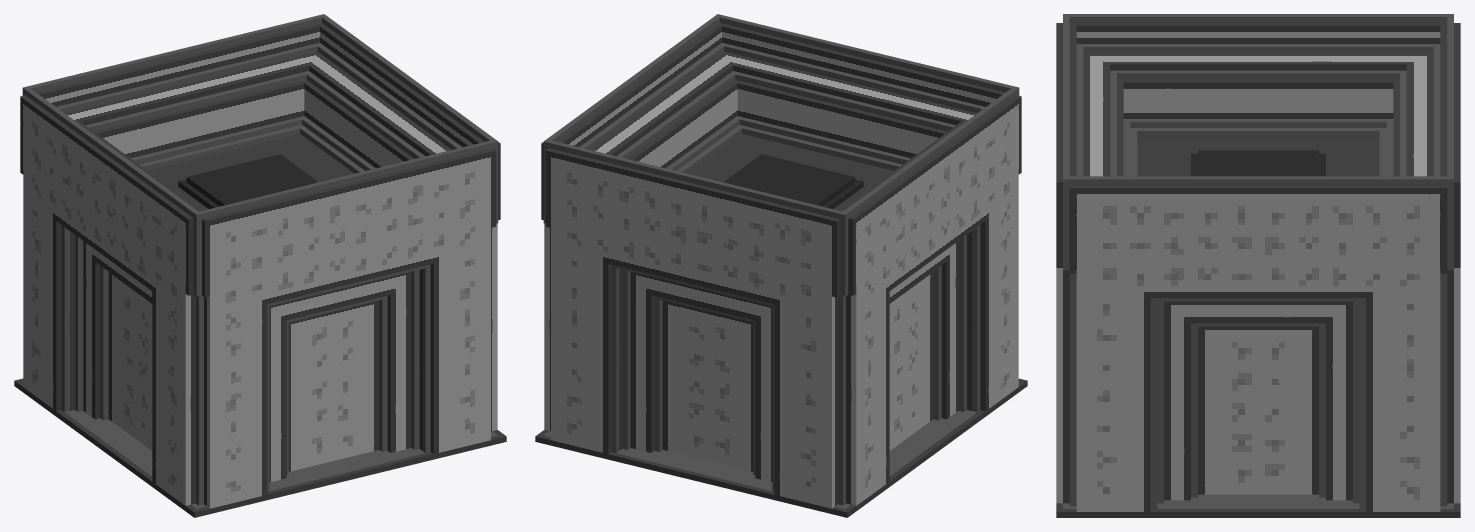
Rendered from statue_base.glb.
3 views of the same model, side by side, from view 1: azimuth 30°, elevation 25°; view 2: azimuth 150°, elevation 25°; view 3: azimuth 270°, elevation 25° (orthographic). The views are drawn at different scales.
Visible parts, largest first — view 1: statue_base; view 2: statue_base; view 3: statue_base.
Part boxes in pixels (bbox=[...]): statue_base: bbox=[14, 14, 506, 517]; statue_base: bbox=[535, 14, 1027, 517]; statue_base: bbox=[1056, 14, 1460, 517].
Size of the model in its own units: 6 by 5.5 by 6.
Materials: 1 (1 with a texture image).
